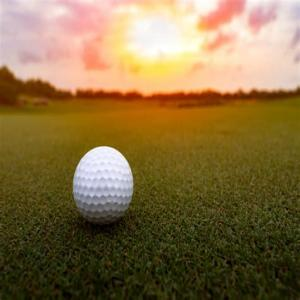Golf: (70, 144, 136, 228)
